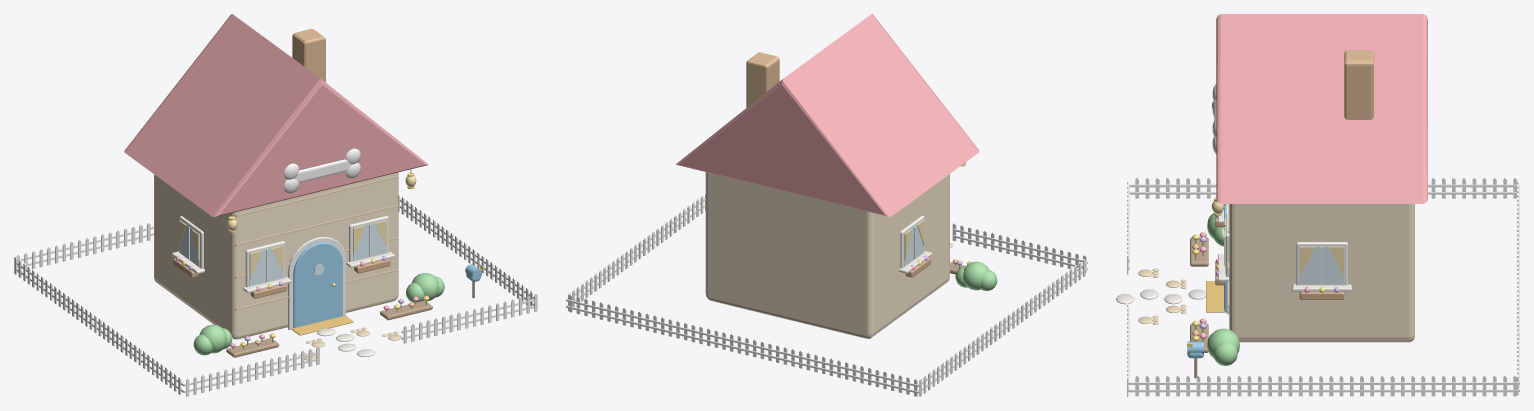
Rendered from building_pets_L08.glb.
3 renders of one model, left to right at view 1: azimuth 30°, elevation 25°; view 2: azimuth 150°, elevation 25°; view 3: azimuth 270°, elevation 25°, orthographic. The views are drawn at different scales.
Visible parts, largest first — view 1: Body, pets_L8; view 2: Body, pets_L8; view 3: Body, pets_L8.
Boxes of the visible parts, x1,y1,x2,y2 form: Body: (124, 14, 428, 360); pets_L8: (14, 193, 537, 396); Body: (676, 14, 979, 338); pets_L8: (566, 194, 1087, 396); Body: (1138, 14, 1427, 342); pets_L8: (1116, 178, 1519, 396).
Bounding box in the file's own units: 25.35 × 17.03 × 21.74.
